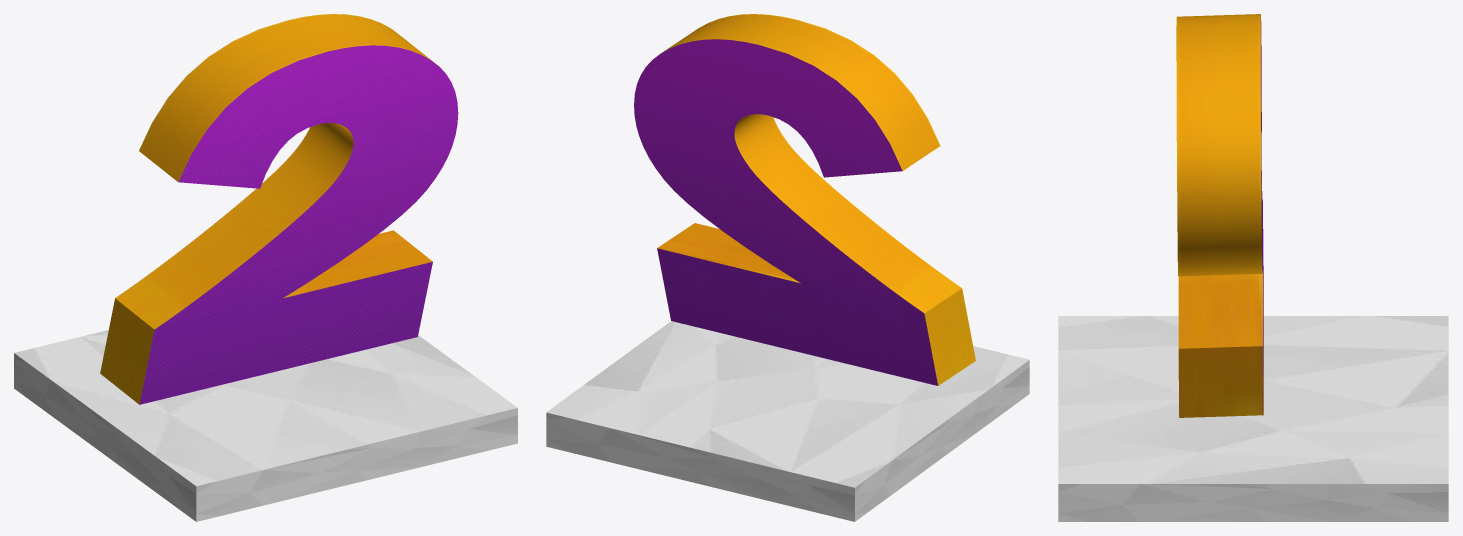
Rendered from DOS.DAE.
3 renders of one model, left to right at view 1: azimuth 30°, elevation 25°; view 2: azimuth 150°, elevation 25°; view 3: azimuth 270°, elevation 25°, orthographic. The views are drawn at different scales.
Parts seen in each view (by area): view 1: Text001, Box001; view 2: Text001, Box001; view 3: Box001, Text001.
Part boxes in pixels (x1,y1,x2,y2): Text001: (100,14,458,404); Box001: (14,330,517,521); Text001: (634,14,975,385); Box001: (546,321,1029,521); Box001: (1058,316,1448,521); Text001: (1176,14,1263,417).
Size of the model in its own units: 139 by 137 by 160.
Materials: 3 (3 with a texture image).
